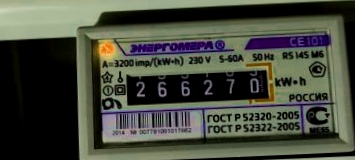0: (247, 76, 260, 94)
2: (132, 79, 146, 98), (201, 77, 213, 96)
6: (155, 79, 168, 98), (178, 79, 191, 98)
7: (224, 76, 236, 95)
screen: (115, 58, 280, 114)
